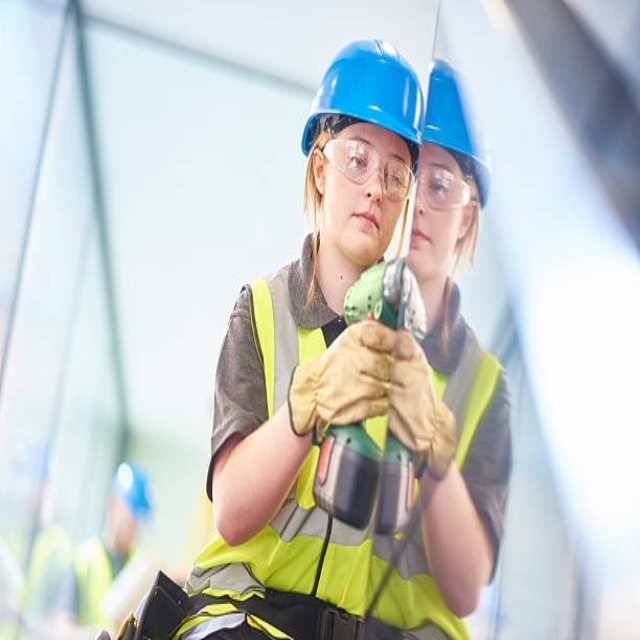Gafas: (321, 133, 416, 201), (419, 160, 477, 215)
Guantes: (286, 323, 398, 439), (381, 332, 460, 480)
Sin_mascara: (341, 205, 387, 251), (411, 216, 441, 273)
